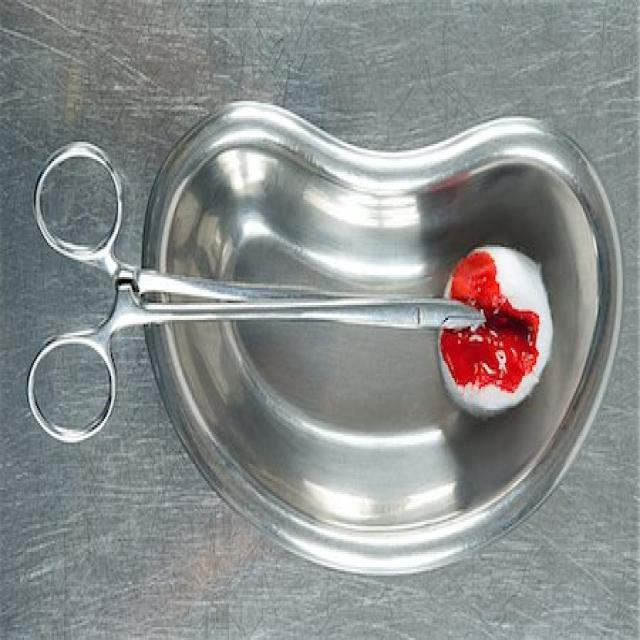B3: (420, 249, 549, 418)
